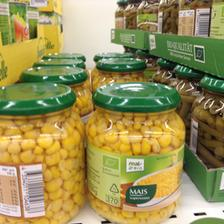Mais: (87, 81, 185, 224), (0, 81, 84, 222)
